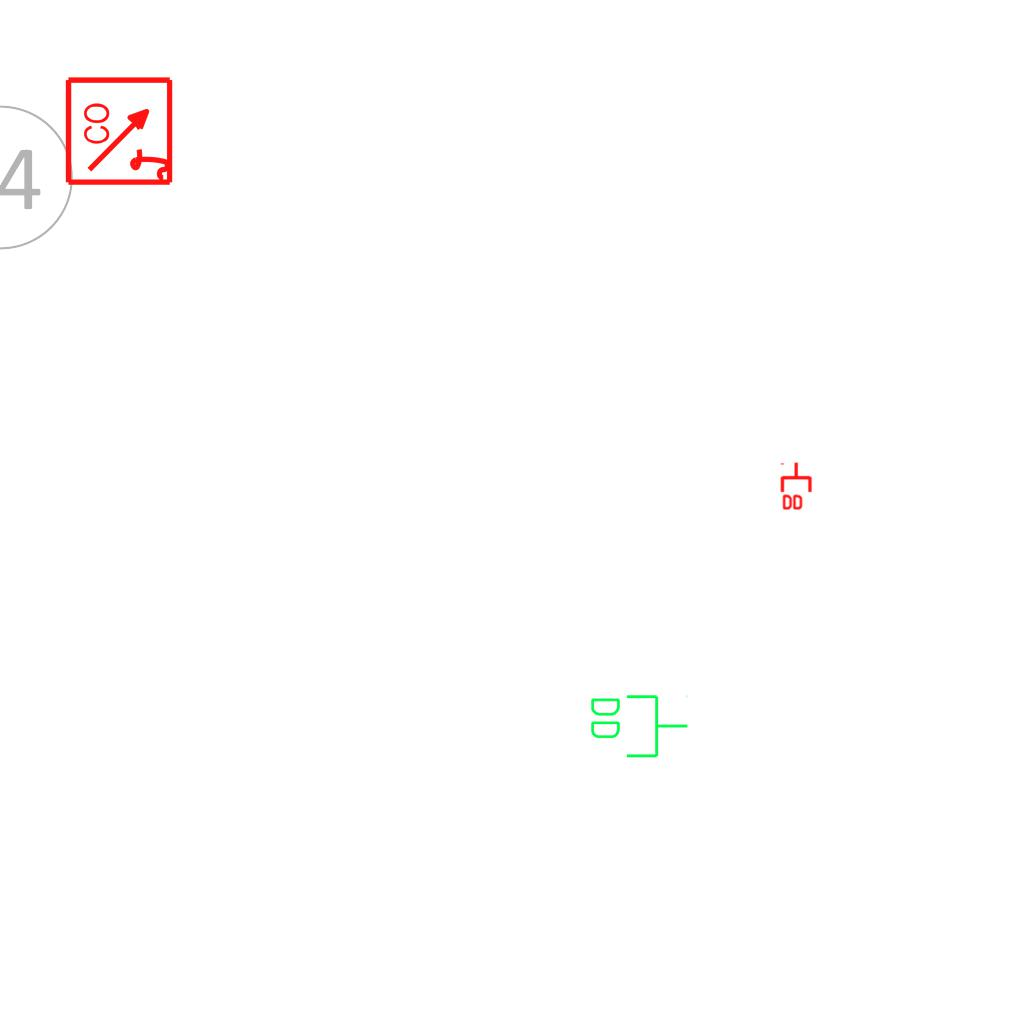Datenanschluss_zweifach: (587, 691, 690, 760), (780, 461, 814, 512)
ROA_Rauchmelder_optisch_mit_Signalgeber_(Sockelsirene): (64, 74, 177, 187)
